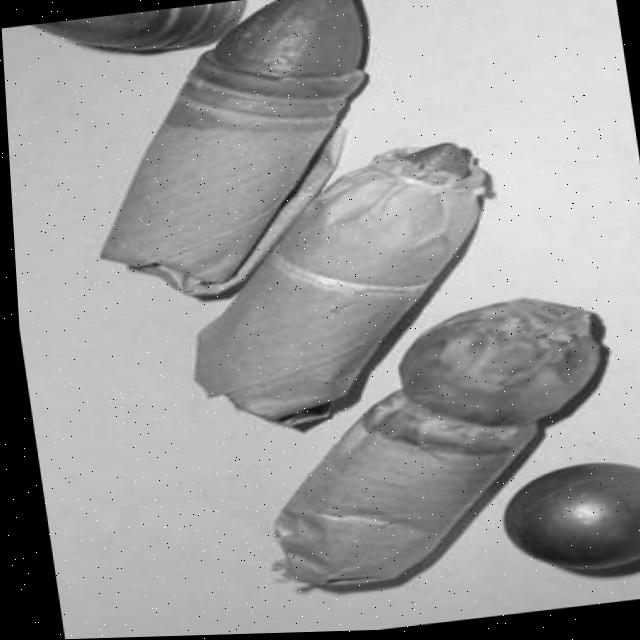grenade: (8, 0, 253, 65)
